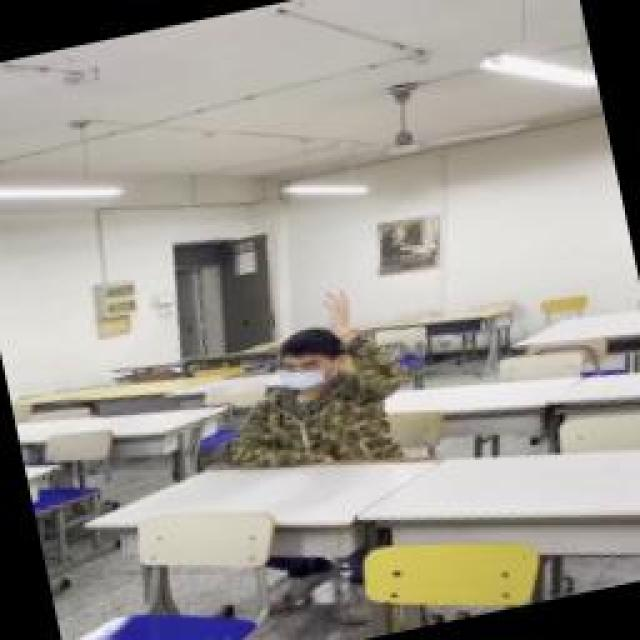study: (205, 280, 423, 485)
